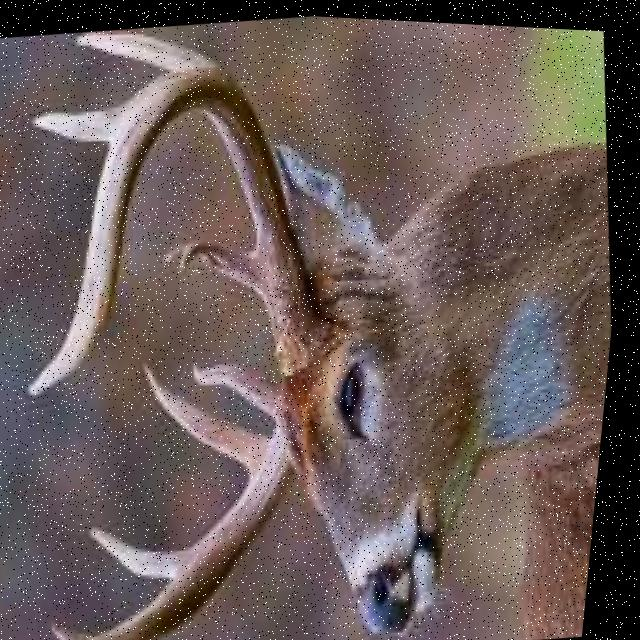L-F: (62, 405, 312, 640)
L-G1: (198, 357, 292, 414)
L-G2: (147, 357, 280, 476)
L-G3: (96, 522, 206, 576)
R-F: (33, 65, 346, 394)
R-G1: (165, 231, 269, 295), (69, 28, 225, 68)
R-G2: (32, 97, 131, 141)
